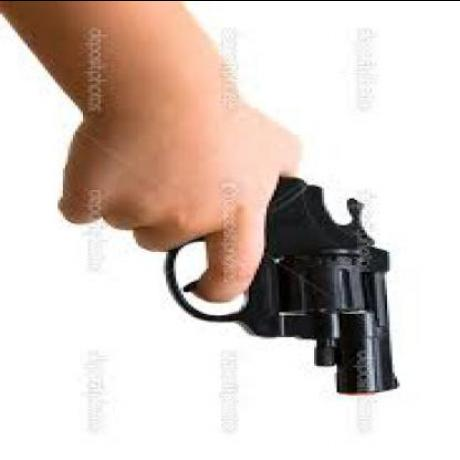1: (0, 1, 309, 299)
weapon: (142, 163, 398, 395)
